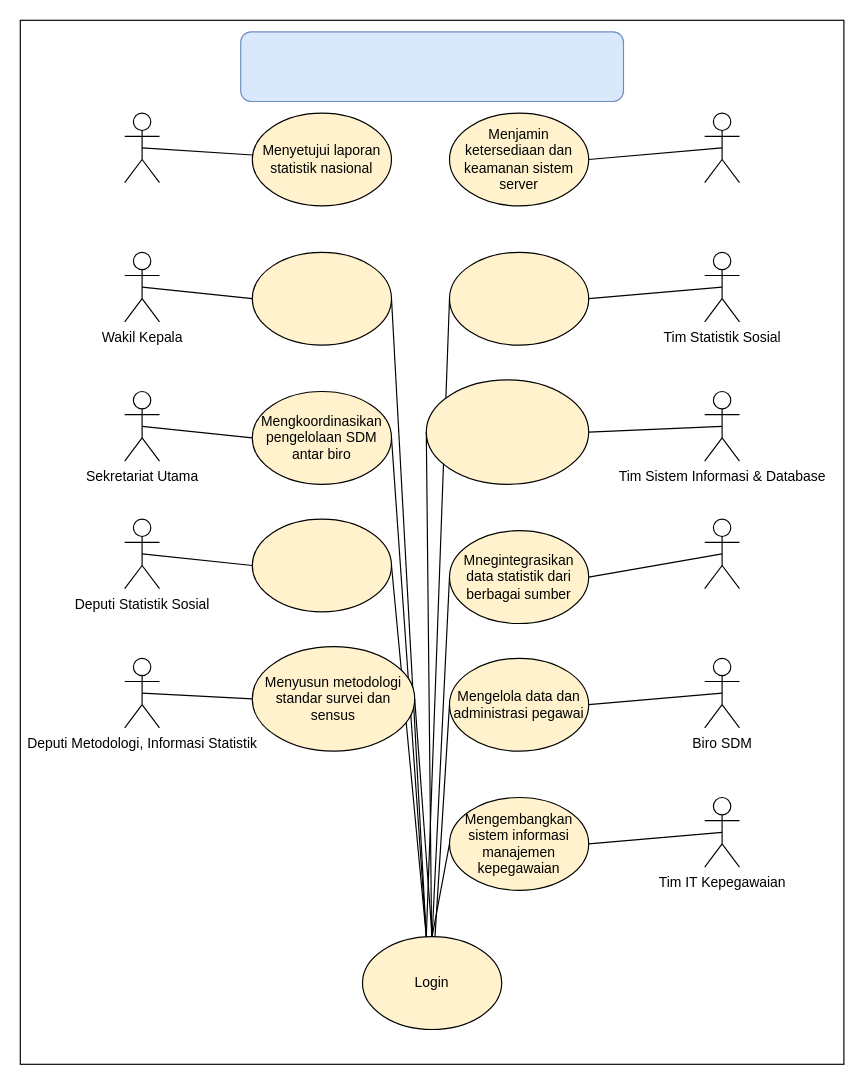
The diagram is 864 pixels wide and 1085 high, and some of its shapes have lost their labels. The shapes that lost their labels are listed below. From the top down, each one's centre as x and y in pixels, then its label:
At (432,66): "Application Use Case Diagram".
At (142,147): "Kepala BPS".
At (722,147): "Tim IT Infrastruktur".
At (321,298): "Melakukan evaluasi intergrasi data antar unit".
At (518,298): "Mengumpulkan dan menginput data survei sosial".
At (507,431): "Mengembangkan dan memelihara sistem informasi survei/sensus".
At (321,565): "Memvalidasi hasil survei sosial nasional".
At (722,553): "Tim Integrasi Data Nasional".
